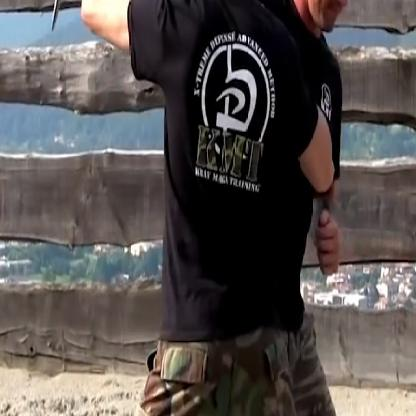knife: (43, 0, 91, 41)
